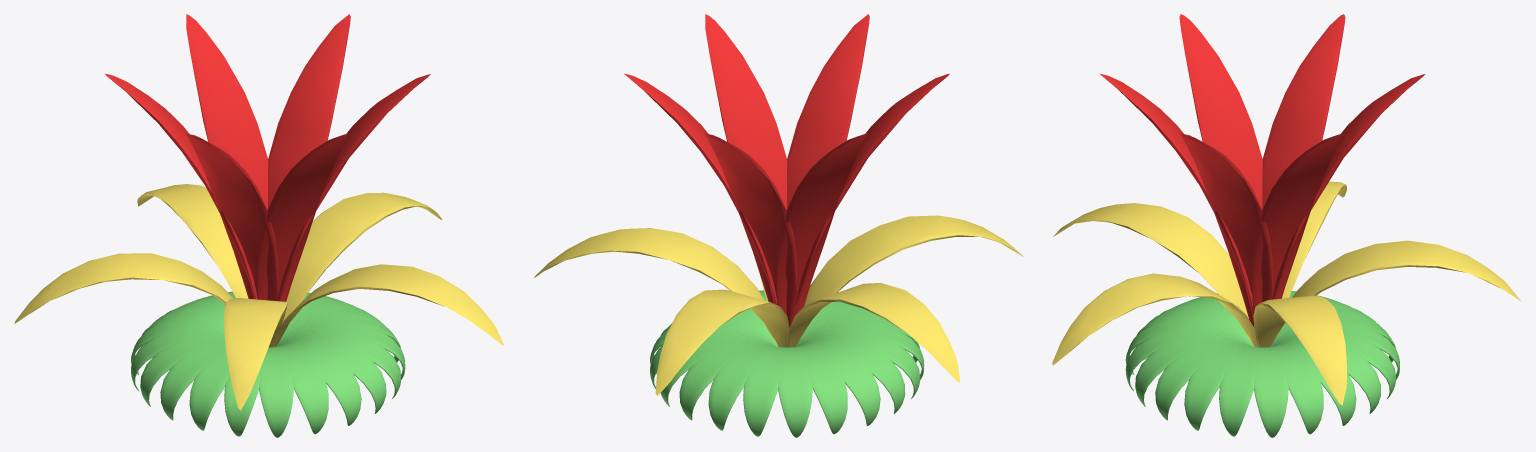
Rendered from DownyRedbud.fbx.
3 renders of one model, left to right at view 1: azimuth 30°, elevation 25°; view 2: azimuth 150°, elevation 25°; view 3: azimuth 270°, elevation 25°, orthographic.
Parts seen in each view (by area): view 1: Downy_Redbud; view 2: Downy_Redbud; view 3: Downy_Redbud.
Boxes of the visible parts, bbox=[...] form: Downy_Redbud: bbox=[14, 14, 504, 437]; Downy_Redbud: bbox=[534, 14, 1023, 437]; Downy_Redbud: bbox=[1052, 14, 1521, 437].
Size of the model in its own units: 1012 by 701 by 963.
Materials: 1 (1 with a texture image).
